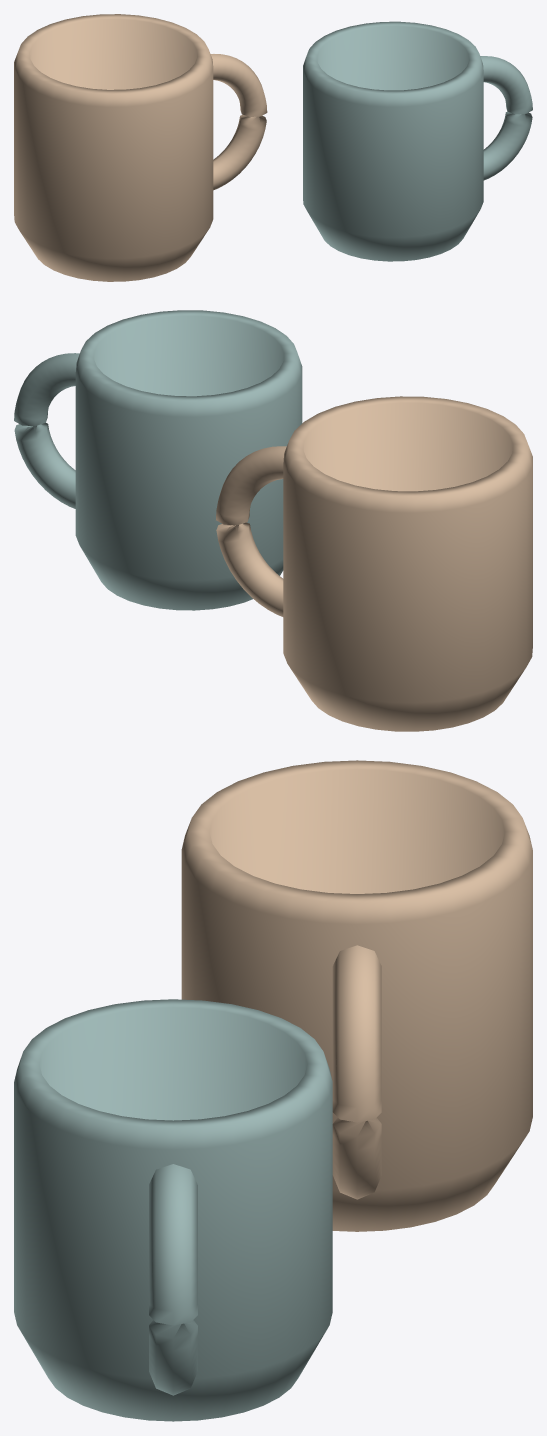
The model's file is mugs.glb.
The picture shows the model from 3 angles, top to bottom: view 1: azimuth 30°, elevation 25°; view 2: azimuth 150°, elevation 25°; view 3: azimuth 270°, elevation 25°; orthographic projection. The views are drawn at different scales.
Visible parts, largest first — view 1: mugs__body, mugs__accent; view 2: mugs__body, mugs__accent; view 3: mugs__body, mugs__accent.
Part boxes in pixels (x1=…): mugs__body: x1=14, y1=14, x2=267, y2=281; mugs__accent: x1=303, y1=21, x2=532, y2=261; mugs__body: x1=216, y1=396, x2=532, y2=731; mugs__accent: x1=14, y1=310, x2=302, y2=610; mugs__body: x1=181, y1=760, x2=532, y2=1231; mugs__accent: x1=14, y1=999, x2=332, y2=1421.
Size of the model in its own units: 0.2248 by 0.092 by 0.127.
